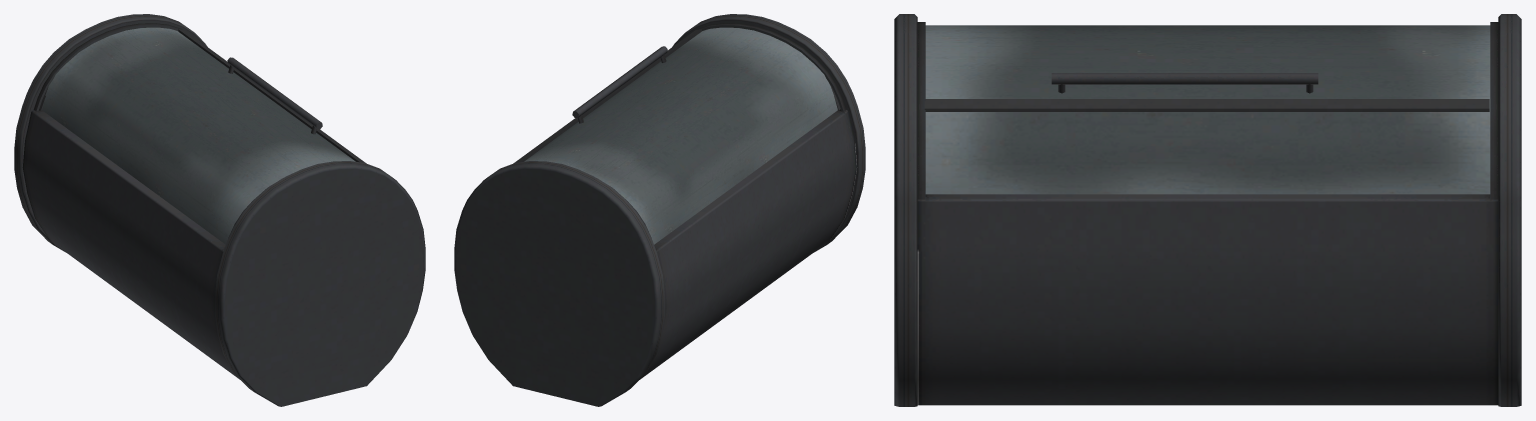
Rendered from nt_2020_fridge_LOD0.obj.
The picture shows the model from 3 angles, left to right: view 1: azimuth 30°, elevation 25°; view 2: azimuth 150°, elevation 25°; view 3: azimuth 270°, elevation 25°; orthographic projection. The views are drawn at different scales.
Parts seen in each view (by area): view 1: mtl_nt_2020_fridge_body, mtl_nt_2020_fridge_glass; view 2: mtl_nt_2020_fridge_body, mtl_nt_2020_fridge_glass; view 3: mtl_nt_2020_fridge_body, mtl_nt_2020_fridge_glass.
Part boxes in pixels (x1=…): mtl_nt_2020_fridge_body: x1=14, y1=14, x2=425, y2=406; mtl_nt_2020_fridge_glass: x1=42, y1=27, x2=355, y2=244; mtl_nt_2020_fridge_body: x1=454, y1=14, x2=865, y2=406; mtl_nt_2020_fridge_glass: x1=524, y1=27, x2=837, y2=244; mtl_nt_2020_fridge_body: x1=894, y1=14, x2=1521, y2=406; mtl_nt_2020_fridge_glass: x1=925, y1=25, x2=1490, y2=194.
Bounding box in the file's own units: 115 × 122 × 203.
